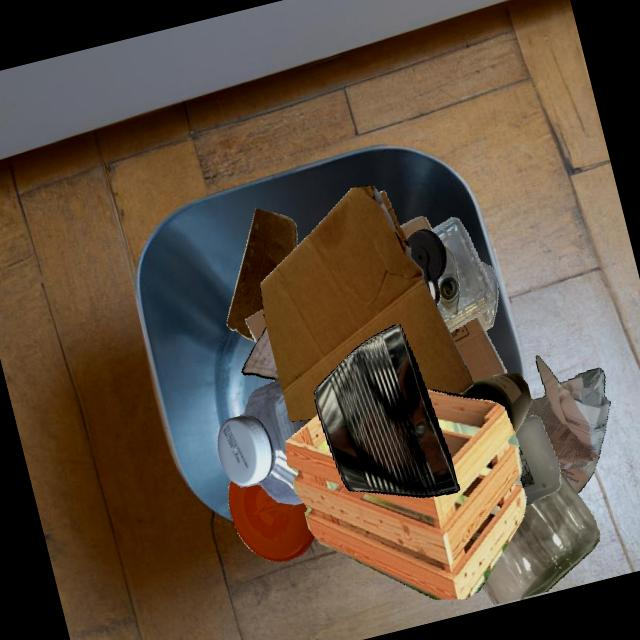cardboard: (260, 184, 474, 421), (260, 226, 399, 348), (338, 315, 477, 393), (226, 208, 297, 341)
combustible waste: (285, 388, 526, 599)
glass: (481, 470, 600, 604), (460, 372, 531, 433), (437, 244, 459, 314)
metal: (314, 324, 459, 497)
paper: (524, 354, 610, 494), (242, 326, 279, 379)
plastic: (217, 379, 312, 504), (429, 217, 496, 332), (228, 479, 314, 562), (514, 415, 561, 504), (406, 228, 446, 304), (477, 261, 498, 330)
